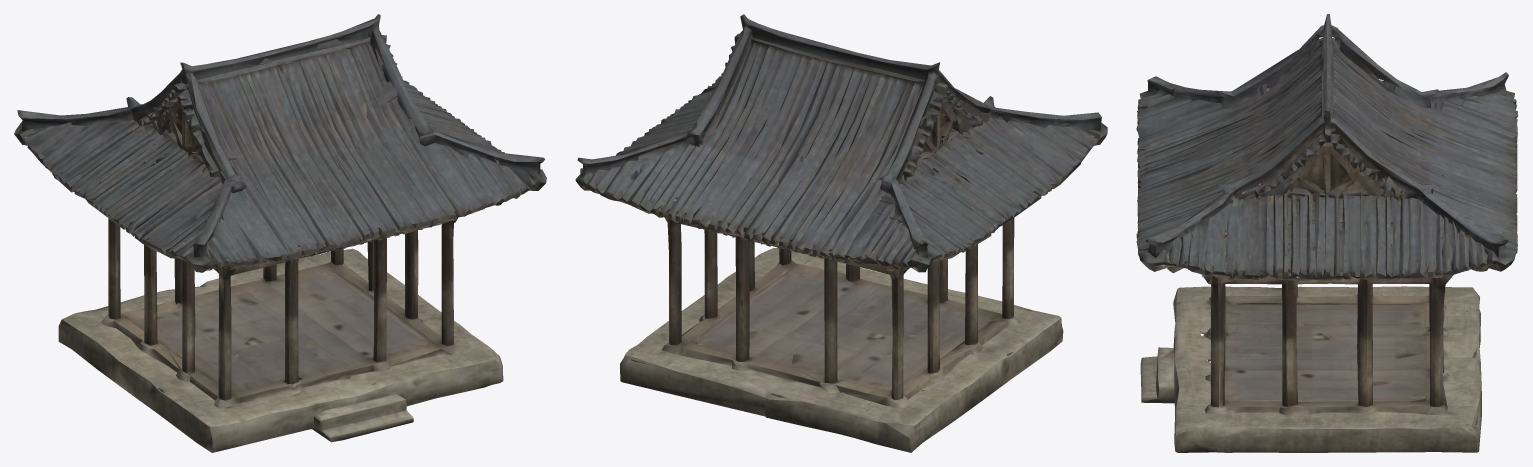
Rendered from ARCH-009.glb.
3 views of the same model, side by side, from view 1: azimuth 30°, elevation 25°; view 2: azimuth 150°, elevation 25°; view 3: azimuth 270°, elevation 25° (orthographic).
Visible parts, largest first — view 1: world; view 2: world; view 3: world.
Boxes of the visible parts, bbox=[...] form: world: bbox=[14, 14, 546, 452]; world: bbox=[575, 14, 1107, 452]; world: bbox=[1136, 14, 1518, 452].
Bounding box in the file's own units: 4.5 × 3.88 × 4.17.
Materials: 1 (1 with a texture image).
